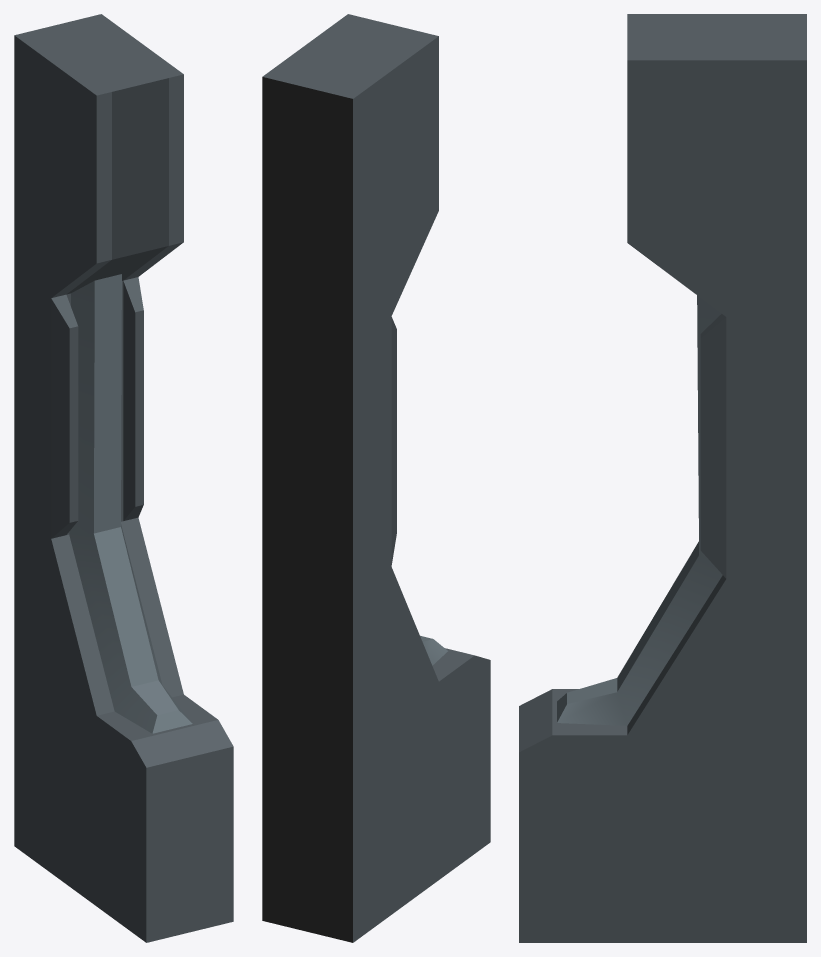
The model's file is SM_Bld_Wall_Pillar_06.fbx.
3 views of the same model, side by side, from view 1: azimuth 30°, elevation 25°; view 2: azimuth 150°, elevation 25°; view 3: azimuth 270°, elevation 25° (orthographic). The views are drawn at different scales.
Parts seen in each view (by area): view 1: SM_Bld_Wall_Pillar_06; view 2: SM_Bld_Wall_Pillar_06; view 3: SM_Bld_Wall_Pillar_06.
Part boxes in pixels (x1,y1,x2,y2): SM_Bld_Wall_Pillar_06: (14,14,233,942); SM_Bld_Wall_Pillar_06: (262,14,490,942); SM_Bld_Wall_Pillar_06: (519,14,806,942).
Bounding box in the file's own units: 57.31 × 509 × 150.
Materials: 1 (1 with a texture image).
